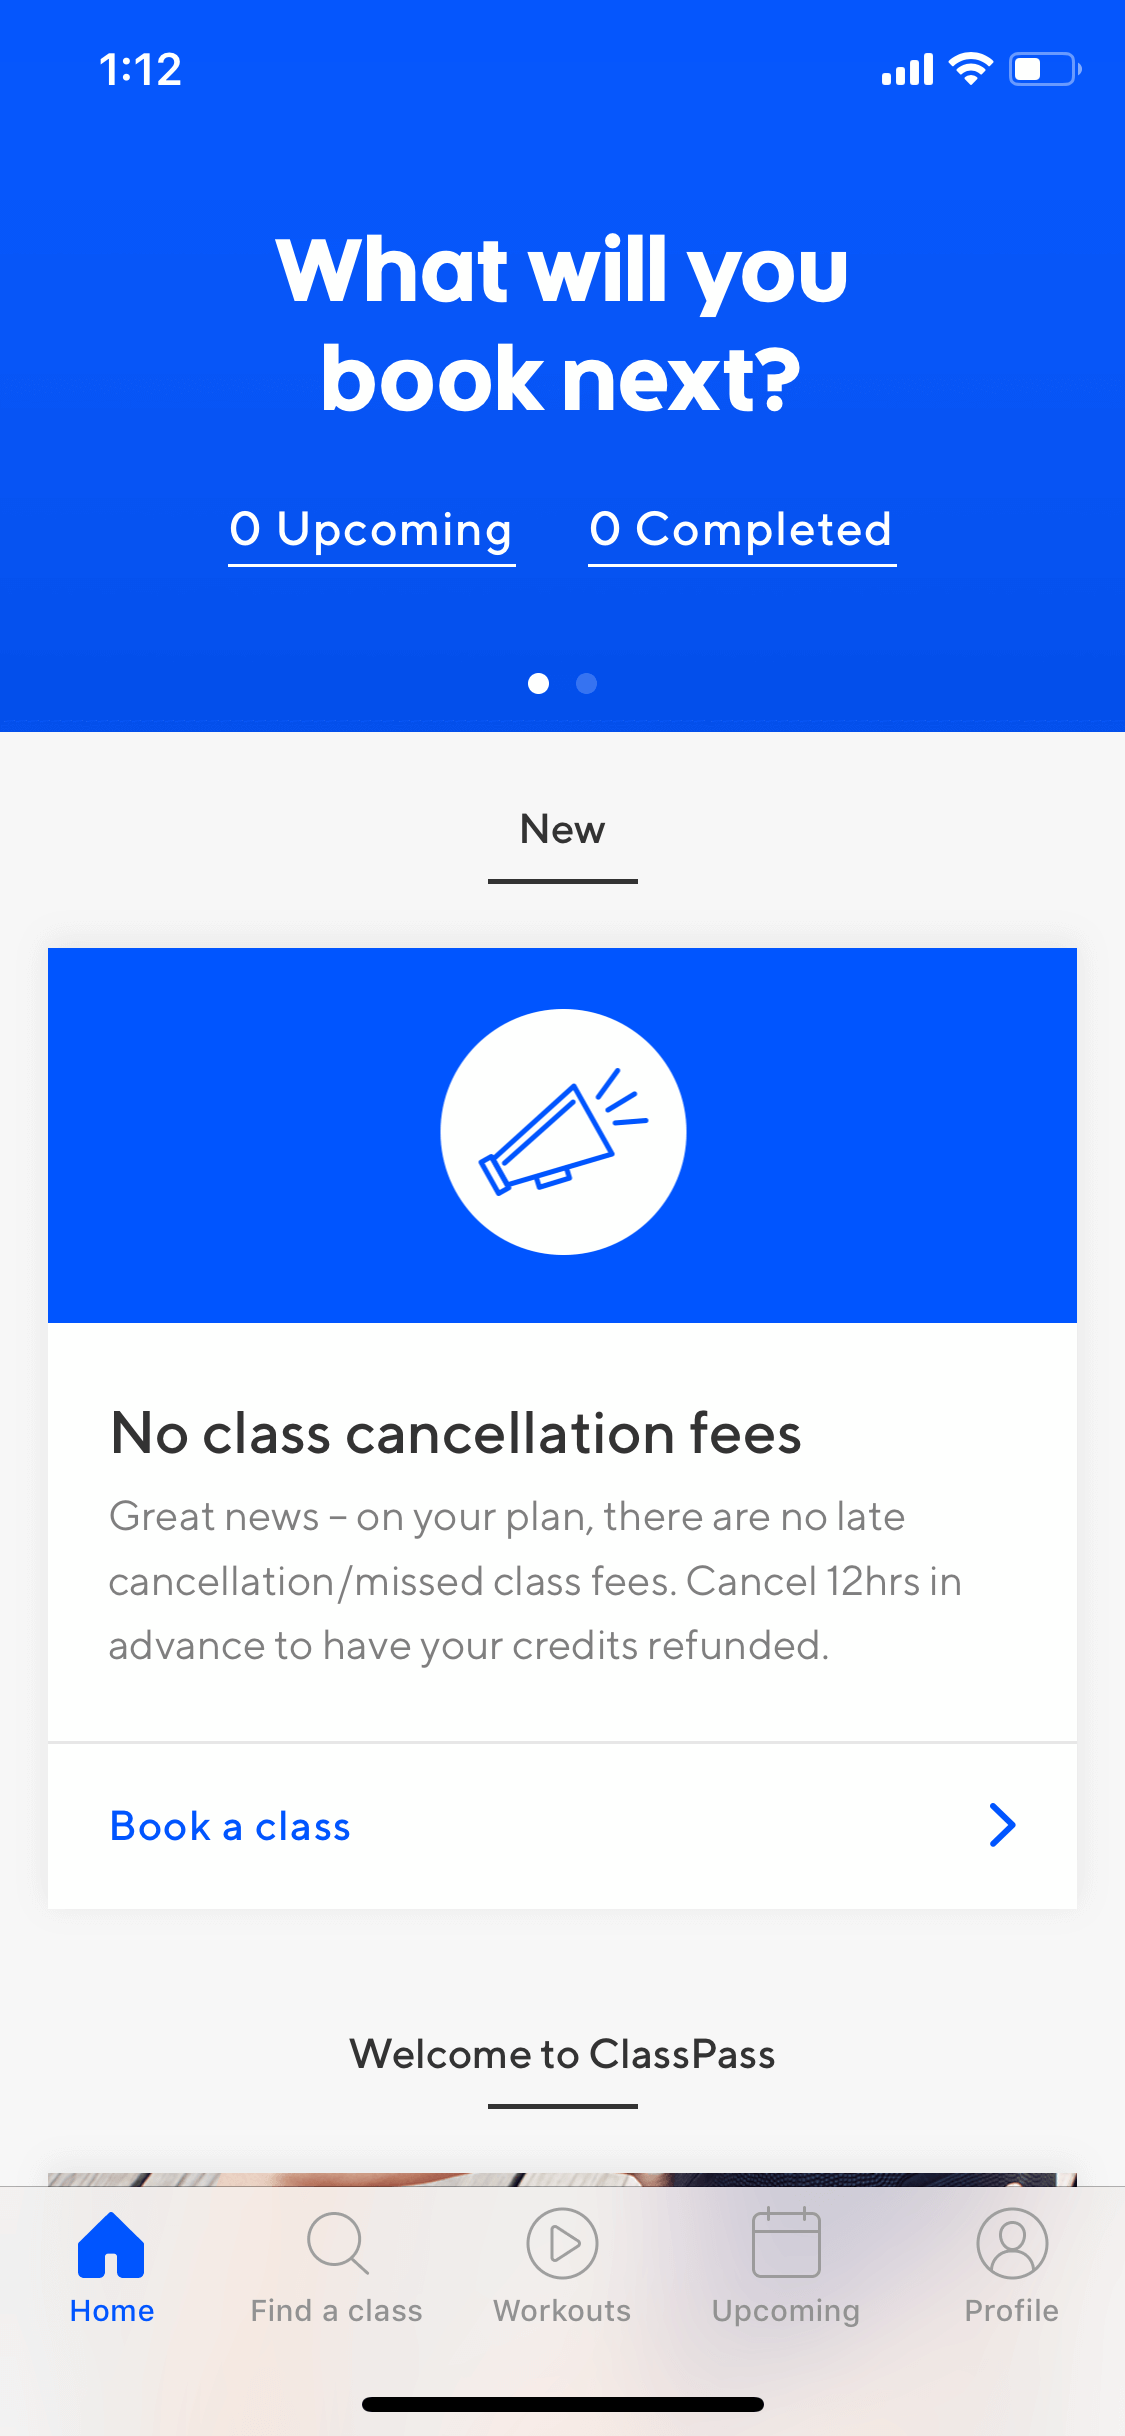Page Controls: (482, 634, 631, 716)
